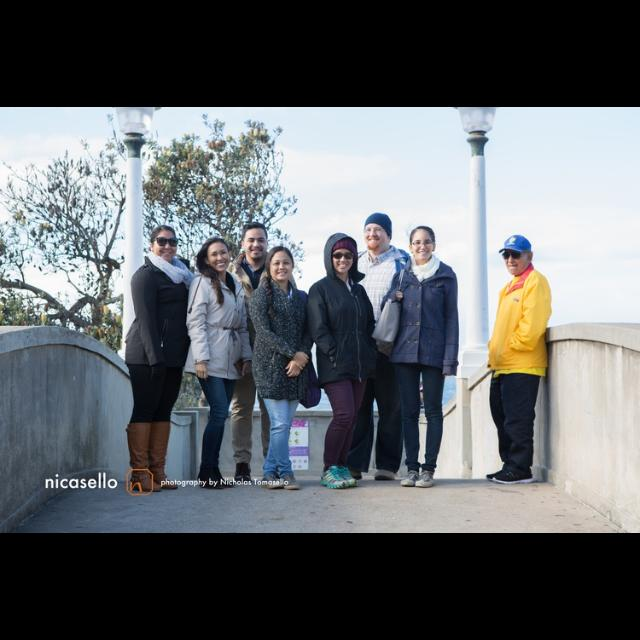head: (364, 212, 394, 252), (150, 224, 180, 264), (503, 240, 535, 276), (328, 235, 356, 275), (408, 226, 438, 262), (242, 223, 270, 261), (204, 236, 232, 274), (268, 247, 294, 283)
person: (371, 225, 462, 490), (341, 212, 419, 482), (222, 220, 300, 486), (125, 224, 198, 496), (306, 232, 378, 490), (248, 244, 322, 492), (484, 232, 554, 486), (185, 235, 253, 490)
